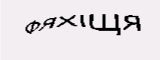Л: (100, 17, 114, 39)
Р: (29, 7, 58, 46)
Т: (111, 19, 125, 38)
Ф: (82, 9, 100, 36)
Ш: (56, 10, 79, 40)
